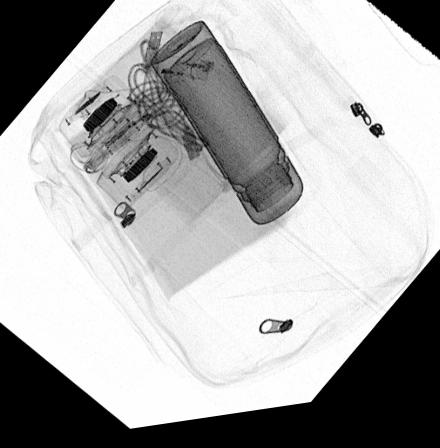Lighter: (152, 61, 214, 87)
